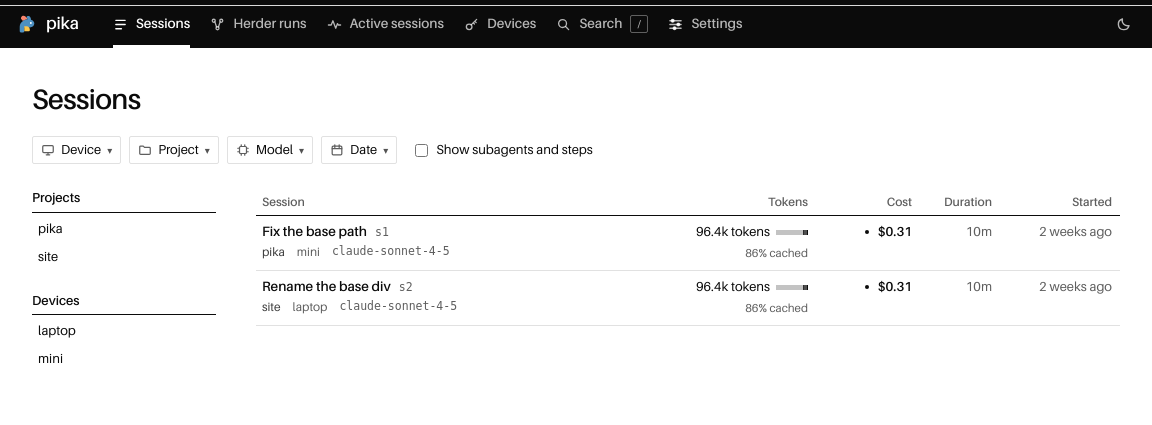
Test: search page › focuses the input with / after opening search from the band, keeping the filters
Expected: the text "Fix the base path" is shown, [262,222,367,242]
Click the link "Search /": (602,24) [556,15,648,33]
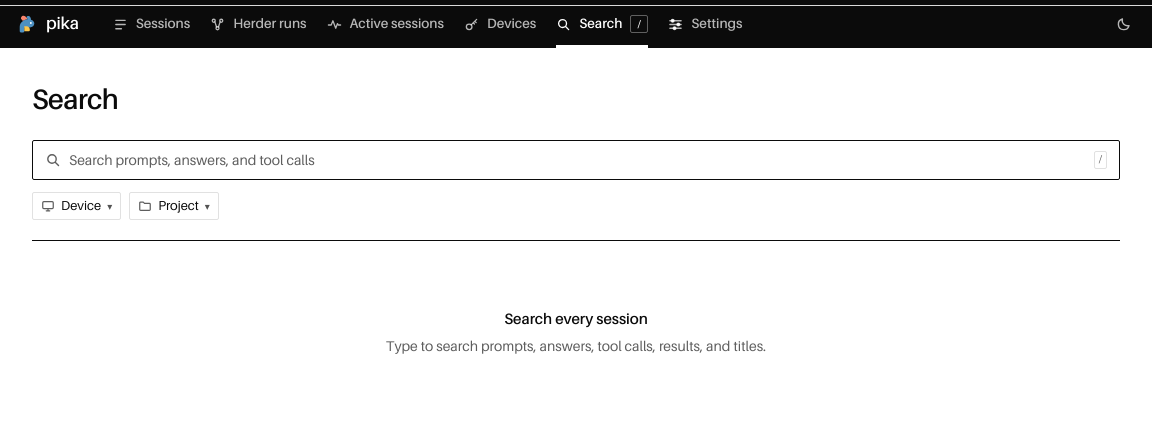
In the search field named "Search": (577,160) [69,150,1086,171], type "base"
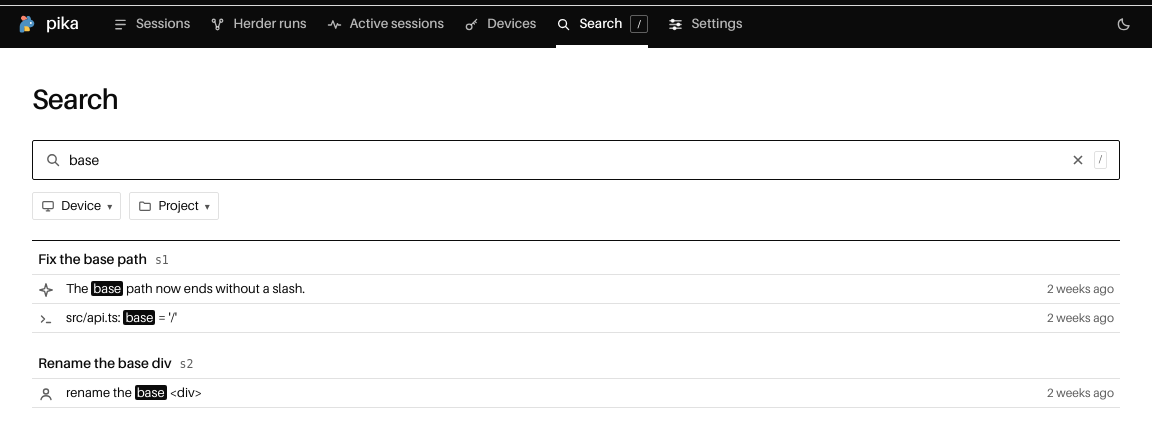
Click the button "Device ▾": (77,206) [32,192,121,220]
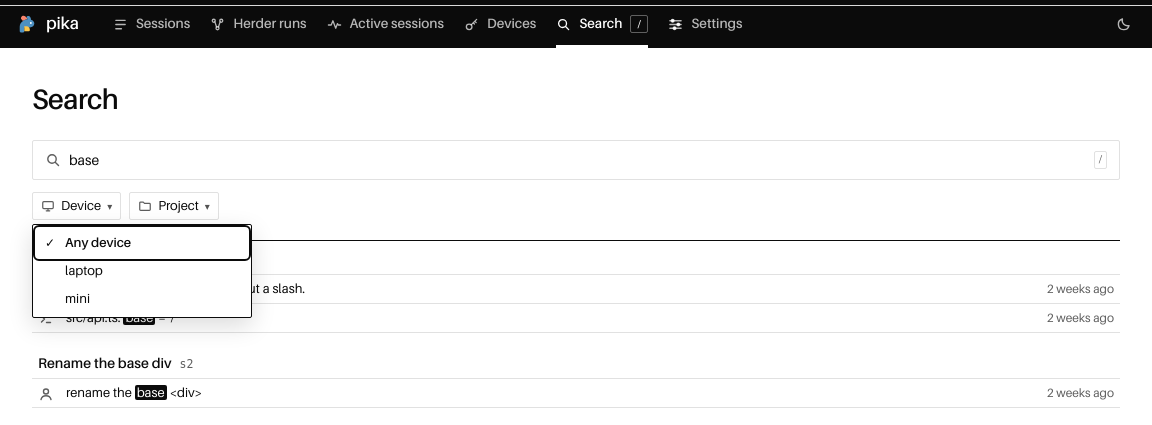
Click the menu item "laptop": (142,271) [37,257,247,285]
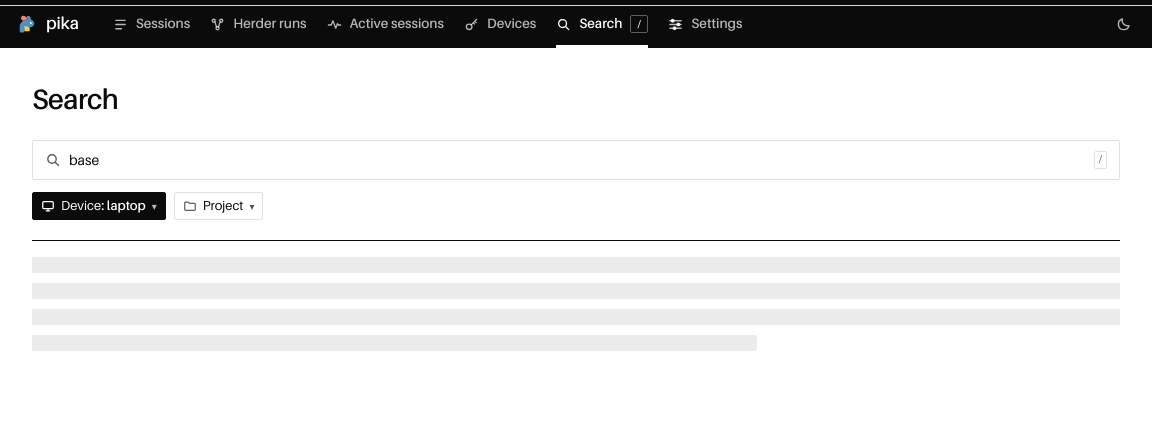
Press /
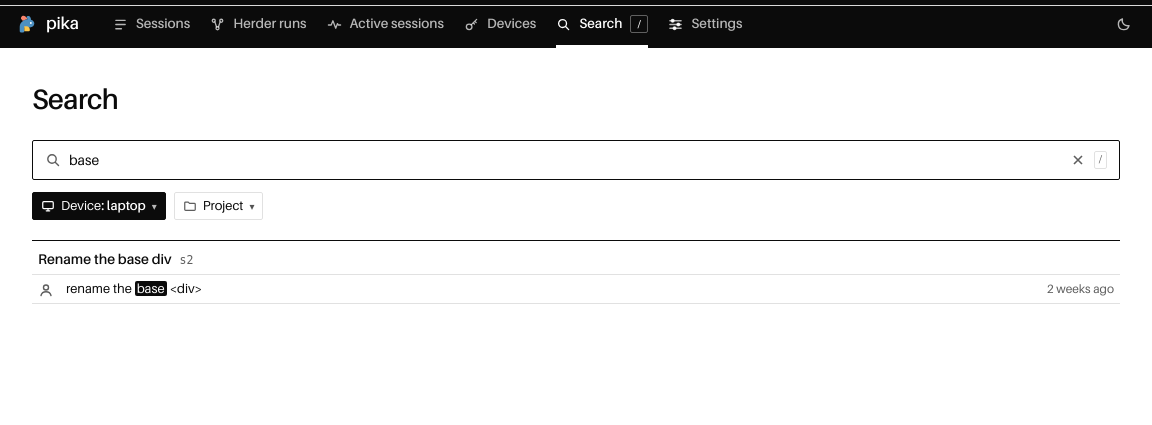
Result: the button "Device : laptop ▾" is shown at [32,192,166,220]
# Opening search again from the band starts over instead of restoring the old query.
Click the link "Search /": (602,24) [546,0,658,48]
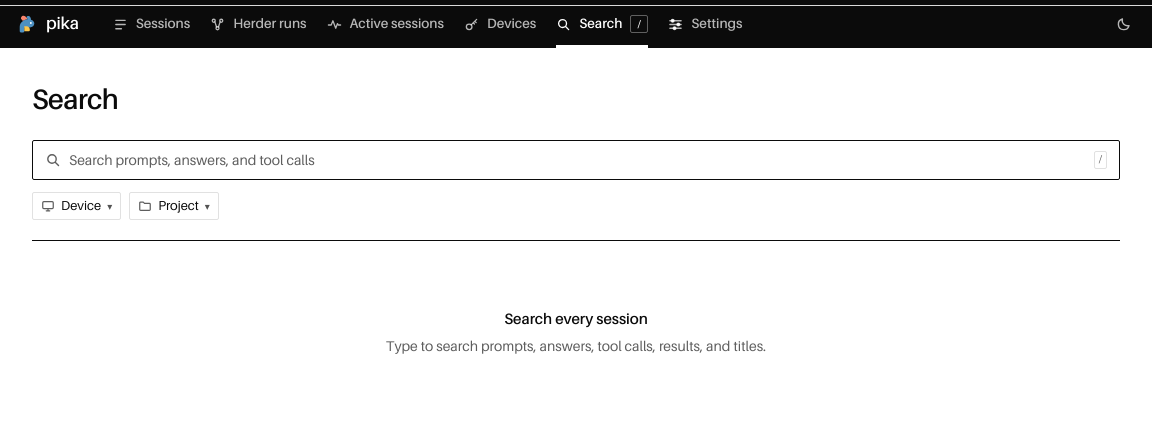
Result: the search field named "Search" is empty at [69,150,1086,171]
Result: the text "Search every session" is shown at [504,311,648,328]
